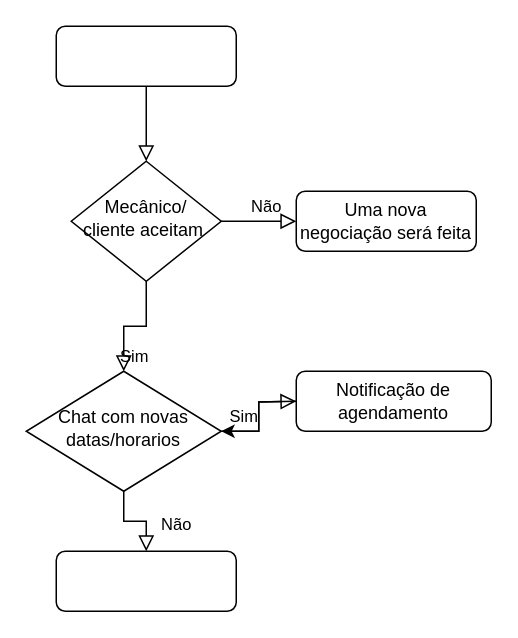
The diagram is 518 pixels wide and 638 high, and some of its shapes have lost their labels. The centre of each missing label's shape, as x and y in pixels:
Renegociação: the point at 145,580
Solicitação de mudança: the point at 145,55
